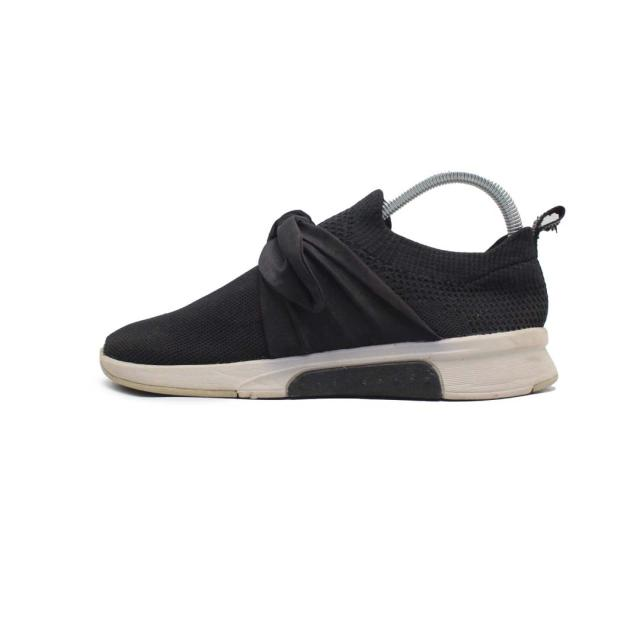heel: (481, 206, 568, 333)
midsole: (100, 325, 556, 400)
uppersole: (105, 189, 485, 367)
